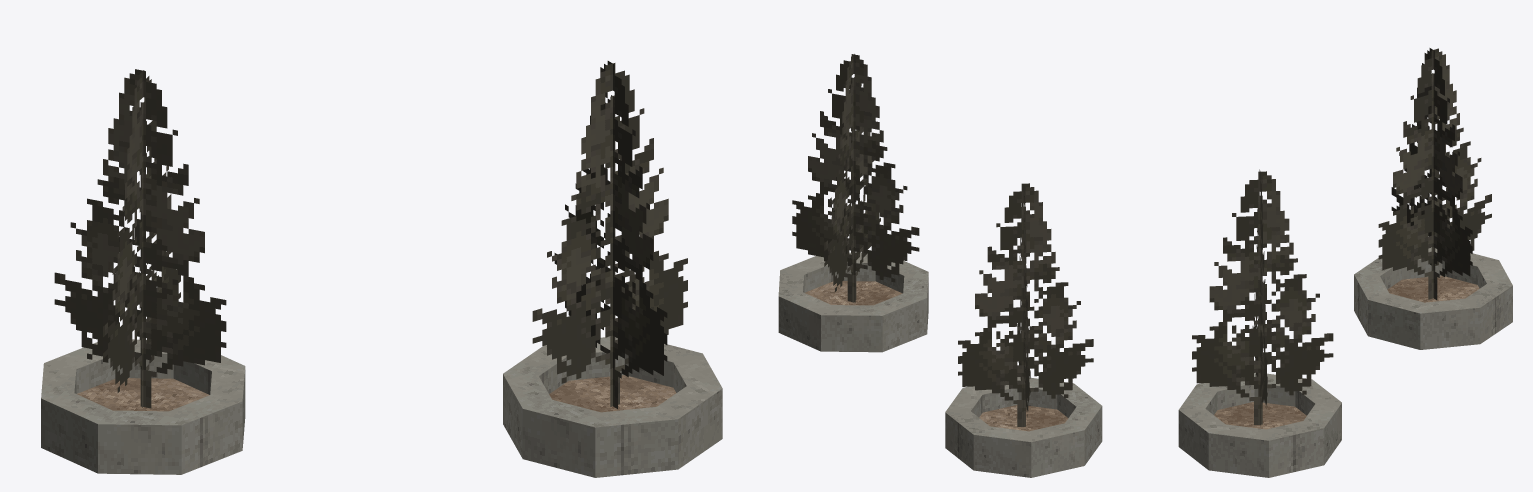
The model's file is procgen-procpain-tree-park-pine-large-xm3z2.obj.
The picture shows the model from 3 angles, left to right: view 1: azimuth 30°, elevation 25°; view 2: azimuth 150°, elevation 25°; view 3: azimuth 270°, elevation 25°; orthographic projection. The views are drawn at different scales.
Bounding box in the file's own units: 17.46 × 10.65 × 12.94.
